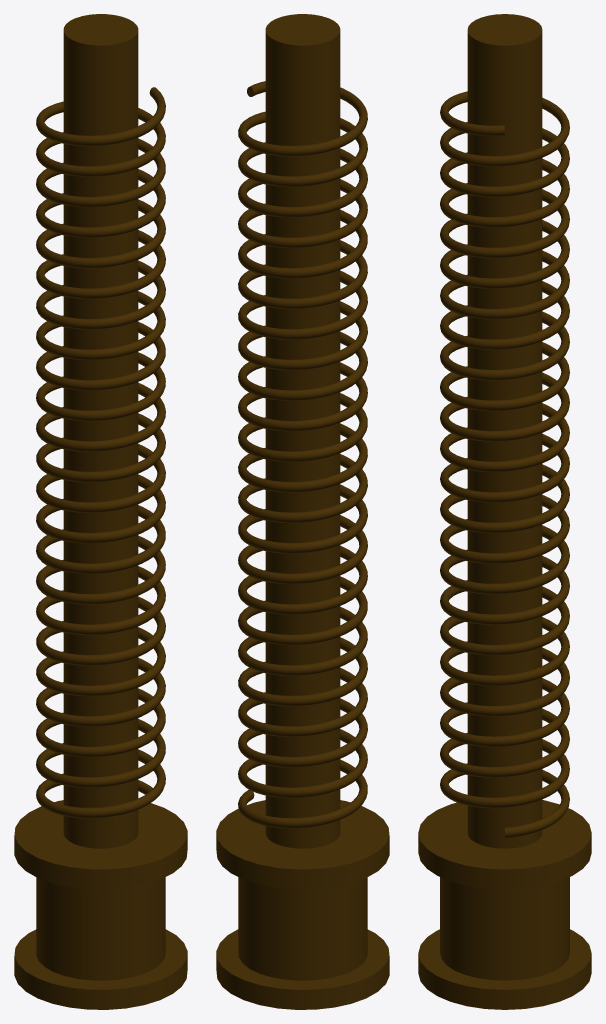
File: Omnidirectionalantenna.obj
3 renders of one model, left to right at view 1: azimuth 30°, elevation 25°; view 2: azimuth 150°, elevation 25°; view 3: azimuth 270°, elevation 25°, orthographic.
Visible parts, largest first — view 1: Box229, Box230; view 2: Box229, Box230; view 3: Box229, Box230.
Part boxes in pixels (<box>): Box229: <box>14,14,187,1009</box>; Box230: <box>36,87,165,818</box>; Box229: <box>216,14,389,1009</box>; Box230: <box>238,81,367,828</box>; Box229: <box>418,14,591,1009</box>; Box230: <box>440,91,569,838</box>.
Bounding box in the file's own units: 13.84 × 83.12 × 13.85.
